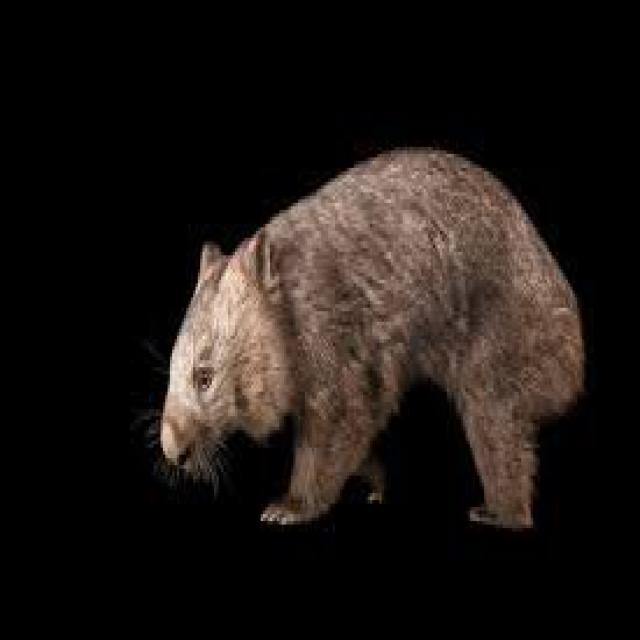Wombat: (138, 138, 590, 546)
